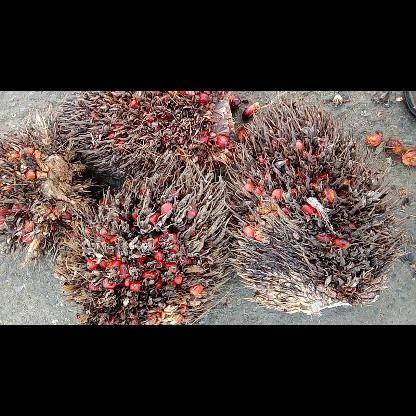Terlalu masak: (220, 95, 414, 319), (51, 164, 235, 324), (0, 102, 108, 272), (56, 90, 242, 188)
